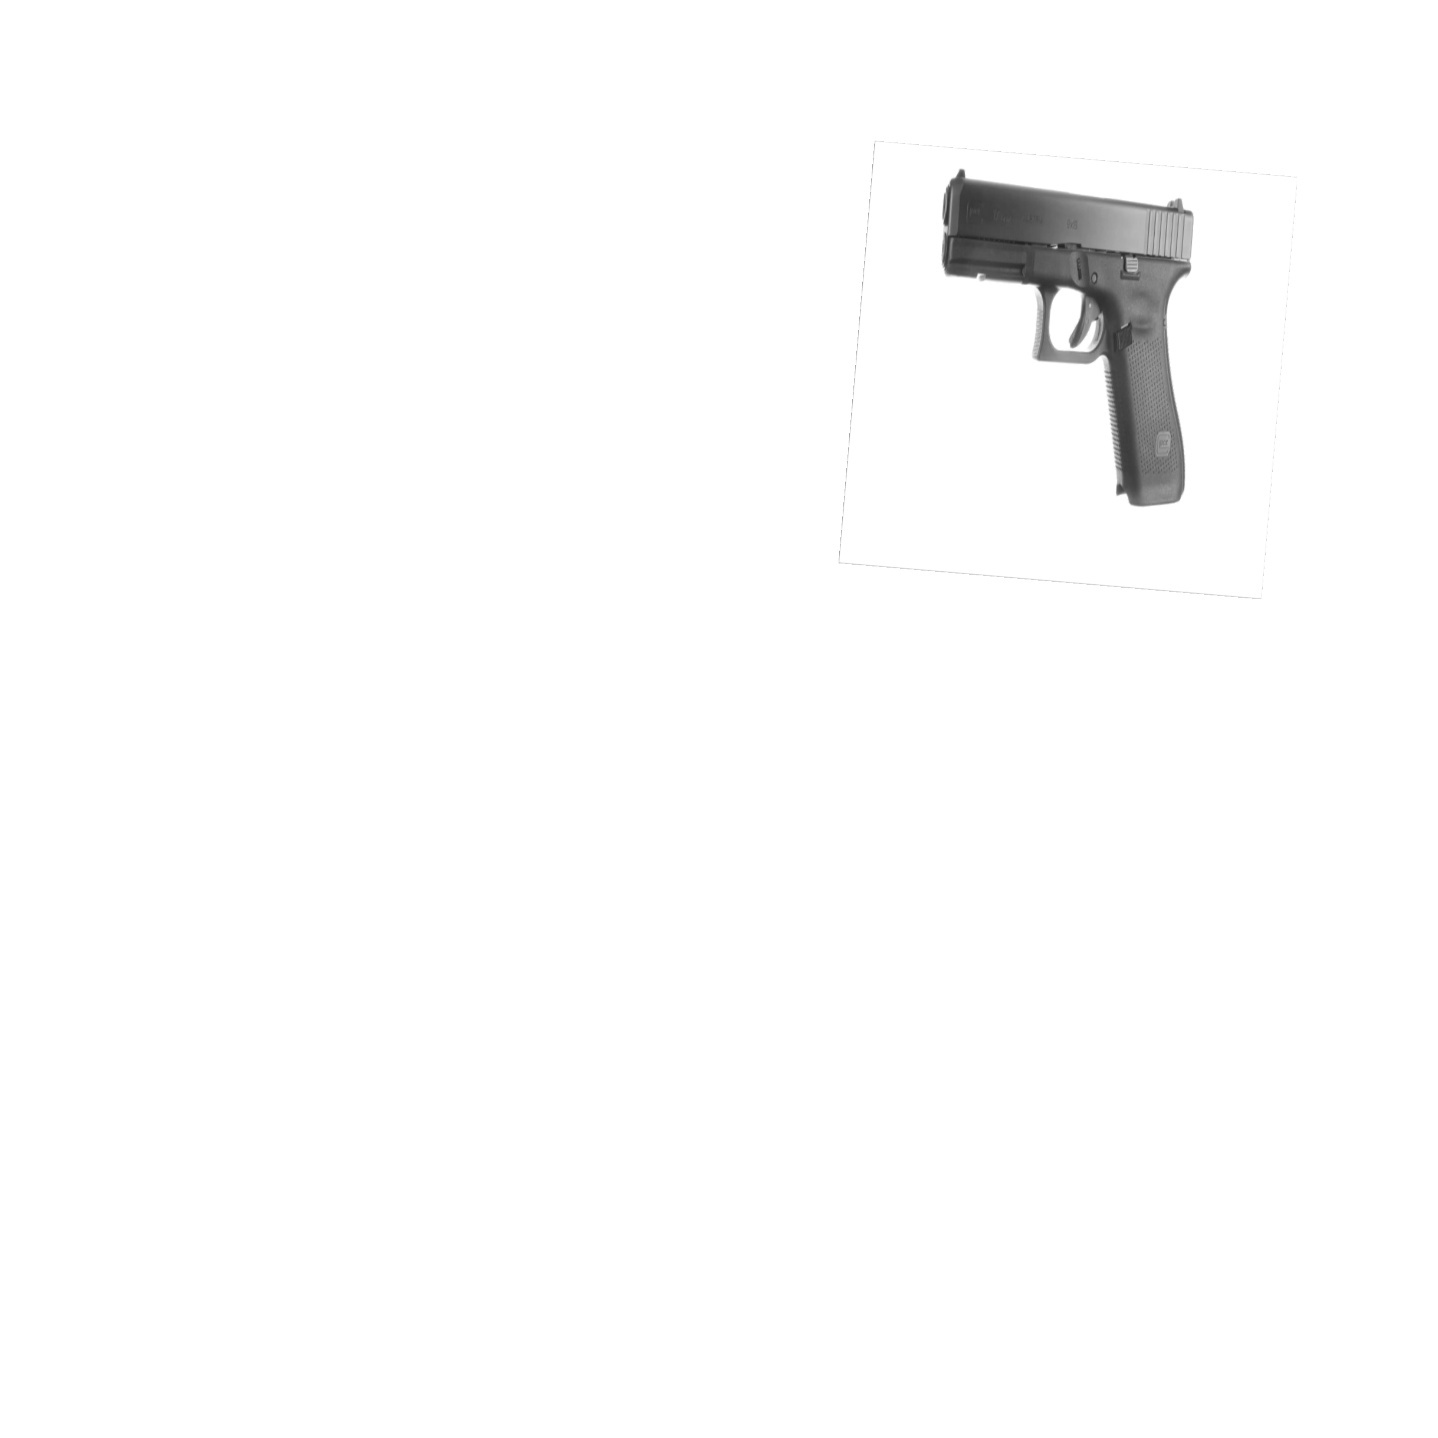gun: (942, 169, 1194, 510)
